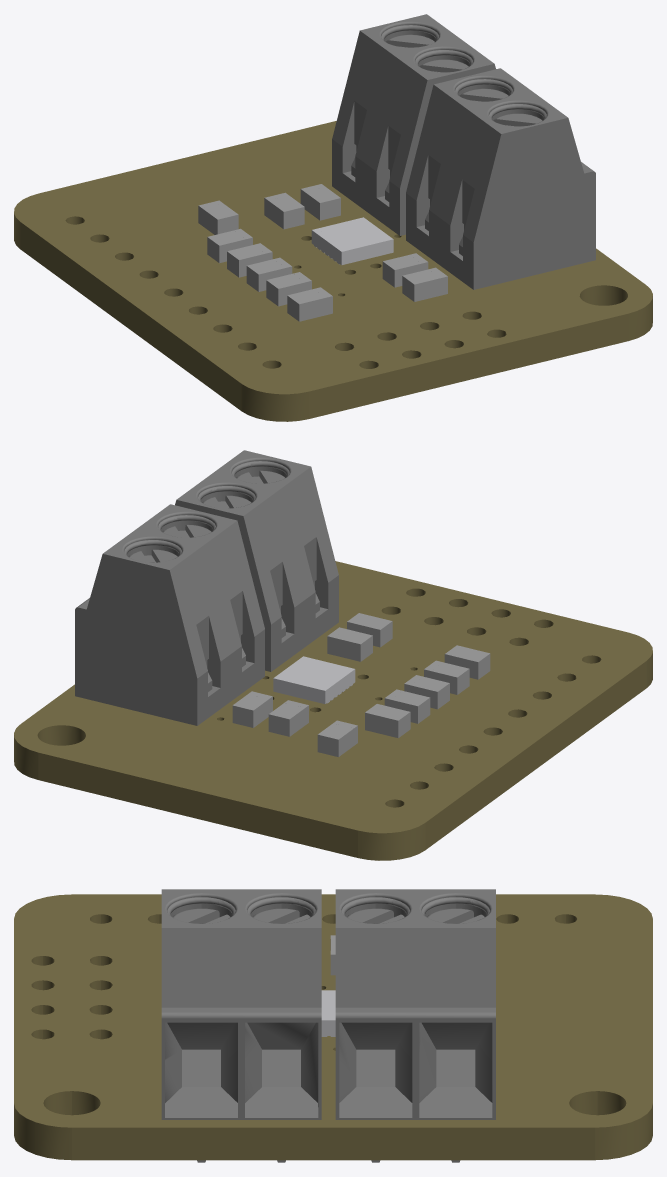
Rendered from ada-987.glb.
3 renders of one model, top to bottom at view 1: azimuth 30°, elevation 25°; view 2: azimuth 150°, elevation 25°; view 3: azimuth 270°, elevation 25°, orthographic. The views are drawn at different scales.
Visible parts, largest first — view 1: 0.16666666666666666_0.16666666666666666_0.08333333333333333_, 0.25_0.25_0.25_0, 0.3333333333333333_0.3333333333333333_0.3333333333333333_0, 0.5833333333333334_0.5833333333333334_0.5833333333333334_0.8; view 2: 0.16666666666666666_0.16666666666666666_0.08333333333333333_, 0.25_0.25_0.25_0, 0.3333333333333333_0.3333333333333333_0.3333333333333333_0, 0.5833333333333334_0.5833333333333334_0.5833333333333334_0.8; view 3: 0.16666666666666666_0.16666666666666666_0.08333333333333333_, 0.25_0.25_0.25_0, 0.5833333333333334_0.5833333333333334_0.5833333333333334_0.8.
Boxes of the visible parts, bbox=[...] form: 0.16666666666666666_0.16666666666666666_0.08333333333333333_: bbox=[14, 121, 652, 421]; 0.25_0.25_0.25_0: bbox=[332, 14, 595, 289]; 0.3333333333333333_0.3333333333333333_0.3333333333333333_0: bbox=[198, 184, 447, 321]; 0.5833333333333334_0.5833333333333334_0.5833333333333334_0.8: bbox=[311, 217, 393, 265]; 0.16666666666666666_0.16666666666666666_0.08333333333333333_: bbox=[14, 561, 652, 860]; 0.25_0.25_0.25_0: bbox=[75, 450, 338, 725]; 0.3333333333333333_0.3333333333333333_0.3333333333333333_0: bbox=[232, 613, 490, 756]; 0.5833333333333334_0.5833333333333334_0.5833333333333334_0.8: bbox=[273, 656, 355, 703]; 0.16666666666666666_0.16666666666666666_0.08333333333333333_: bbox=[14, 894, 652, 1160]; 0.25_0.25_0.25_0: bbox=[161, 889, 495, 1162]; 0.5833333333333334_0.5833333333333334_0.5833333333333334_0.8: bbox=[321, 990, 335, 1036].
Bounding box in the file's own units: 2.41 × 1.21 × 2.79.
